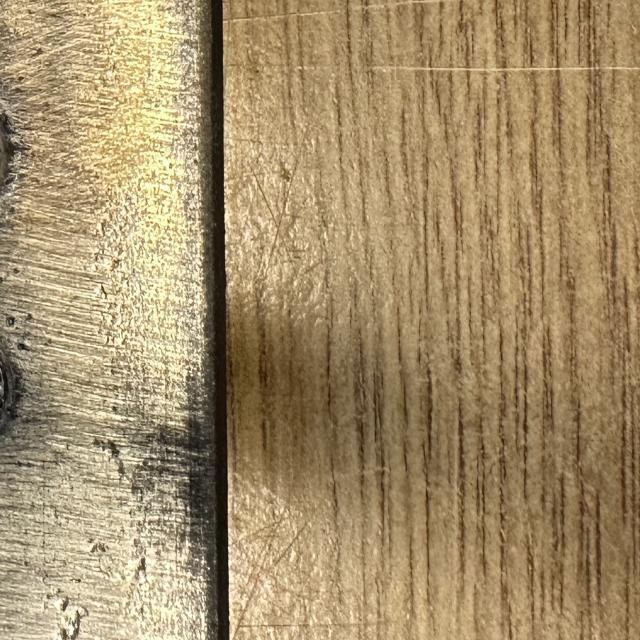Spatters: (6, 315, 15, 326), (18, 342, 26, 350), (26, 313, 32, 322)
